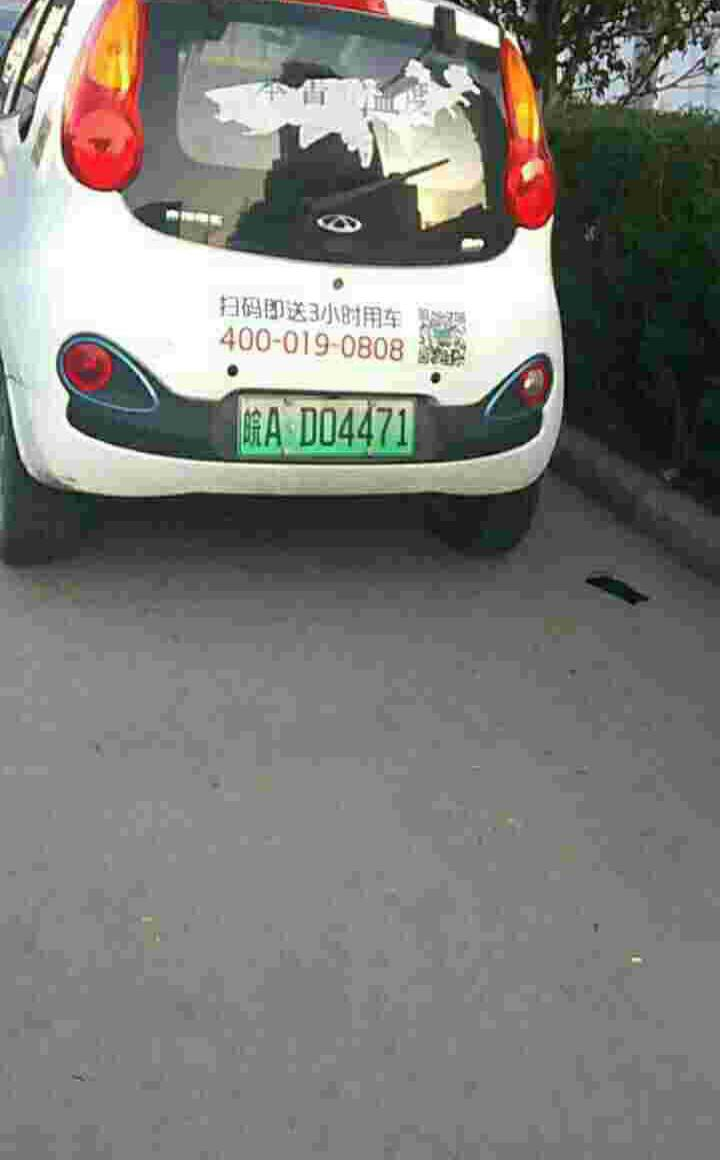car_id: (239, 397, 413, 453)
